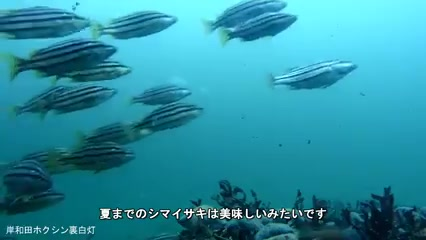bera: (5, 37, 122, 78), (209, 7, 305, 49), (257, 59, 360, 96), (94, 5, 181, 40), (1, 6, 92, 36), (44, 84, 122, 114), (63, 137, 138, 168), (142, 102, 207, 133), (132, 83, 193, 104)
